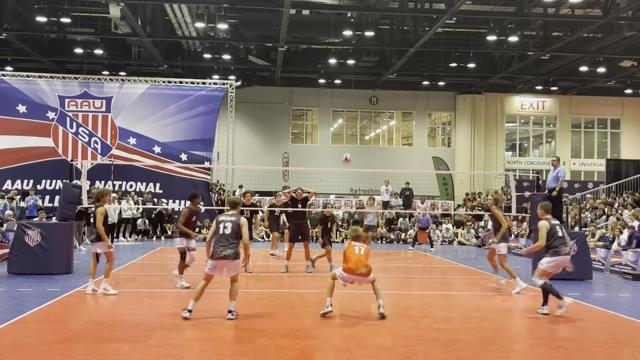ricezione: (324, 225, 395, 321)
